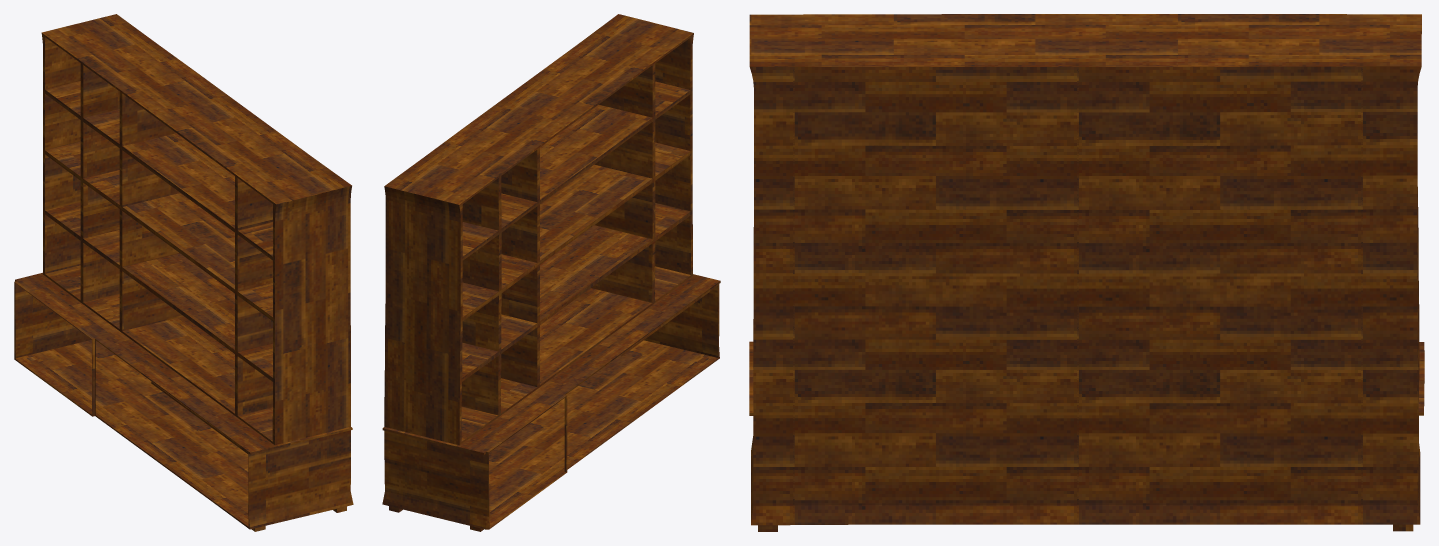
Rendered from DTT bookshelf (1).fbx.
3 views of the same model, side by side, from view 1: azimuth 30°, elevation 25°; view 2: azimuth 150°, elevation 25°; view 3: azimuth 270°, elevation 25° (orthographic). The views are drawn at different scales.
Parts seen in each view (by area): view 1: Bookshelf.001; view 2: Bookshelf.001; view 3: Bookshelf.001.
Boxes of the visible parts, x1,y1,x2,y2 form: Bookshelf.001: (14, 14, 353, 531); Bookshelf.001: (382, 14, 720, 531); Bookshelf.001: (749, 14, 1424, 531).
Bounding box in the file's own units: 4.68 × 13.76 × 18.03.
